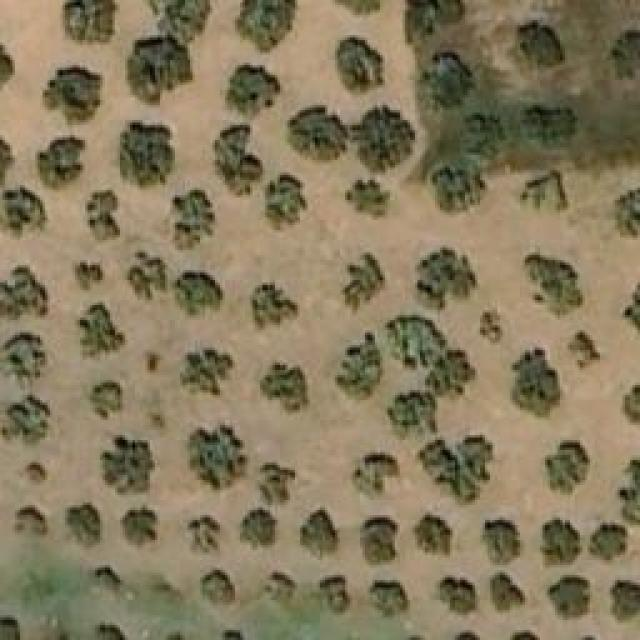Tree: (418, 435, 493, 510), (180, 422, 248, 490), (410, 248, 480, 313), (128, 35, 193, 105), (523, 253, 583, 318), (355, 108, 415, 173), (43, 65, 103, 128), (413, 53, 476, 113), (510, 348, 560, 421), (120, 120, 173, 188), (213, 125, 263, 195), (335, 332, 385, 400), (100, 435, 155, 495), (288, 105, 348, 160), (234, 0, 297, 52), (148, 0, 213, 50), (73, 305, 128, 363), (330, 35, 383, 90), (385, 315, 440, 368), (173, 188, 218, 251), (225, 64, 280, 115), (38, 135, 88, 190), (123, 250, 174, 302), (260, 363, 310, 416), (545, 440, 590, 498), (0, 265, 48, 318), (428, 165, 481, 213), (405, 0, 465, 42), (350, 448, 400, 498), (343, 252, 386, 310), (263, 175, 308, 230), (0, 333, 48, 383), (3, 395, 53, 443), (62, 0, 119, 42), (460, 113, 505, 166), (523, 108, 576, 151), (250, 283, 300, 328), (183, 348, 233, 393), (173, 272, 222, 317), (480, 517, 525, 565), (390, 393, 438, 438), (540, 518, 583, 568), (517, 23, 565, 66), (64, 502, 105, 550), (345, 175, 390, 218), (235, 508, 278, 551), (3, 188, 43, 233), (430, 353, 470, 396), (363, 515, 398, 563), (88, 193, 121, 243), (257, 463, 295, 506), (548, 577, 591, 615), (433, 577, 476, 615), (523, 170, 566, 208), (120, 508, 160, 548), (588, 523, 628, 563), (415, 515, 453, 555), (617, 460, 640, 525), (568, 325, 601, 370), (610, 30, 640, 78), (303, 510, 338, 550), (490, 573, 525, 613), (370, 583, 408, 618), (615, 188, 640, 241), (90, 380, 123, 420), (188, 515, 221, 553), (200, 570, 235, 603), (622, 283, 640, 338), (318, 578, 351, 608), (73, 260, 106, 290), (612, 580, 640, 615), (15, 507, 48, 535), (265, 573, 293, 606), (0, 37, 15, 95), (622, 385, 640, 433), (480, 310, 503, 345), (95, 565, 123, 590), (0, 617, 22, 640), (98, 625, 128, 640), (28, 462, 48, 480)
